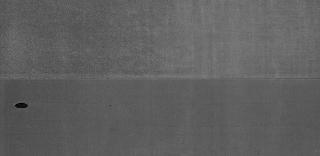punching hole: (13, 102, 29, 110)
welding line: (1, 74, 319, 84)
